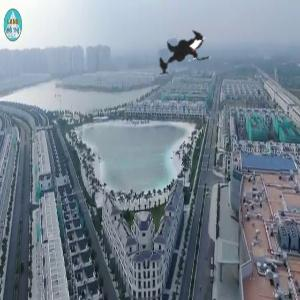drone: (141, 14, 229, 102)
